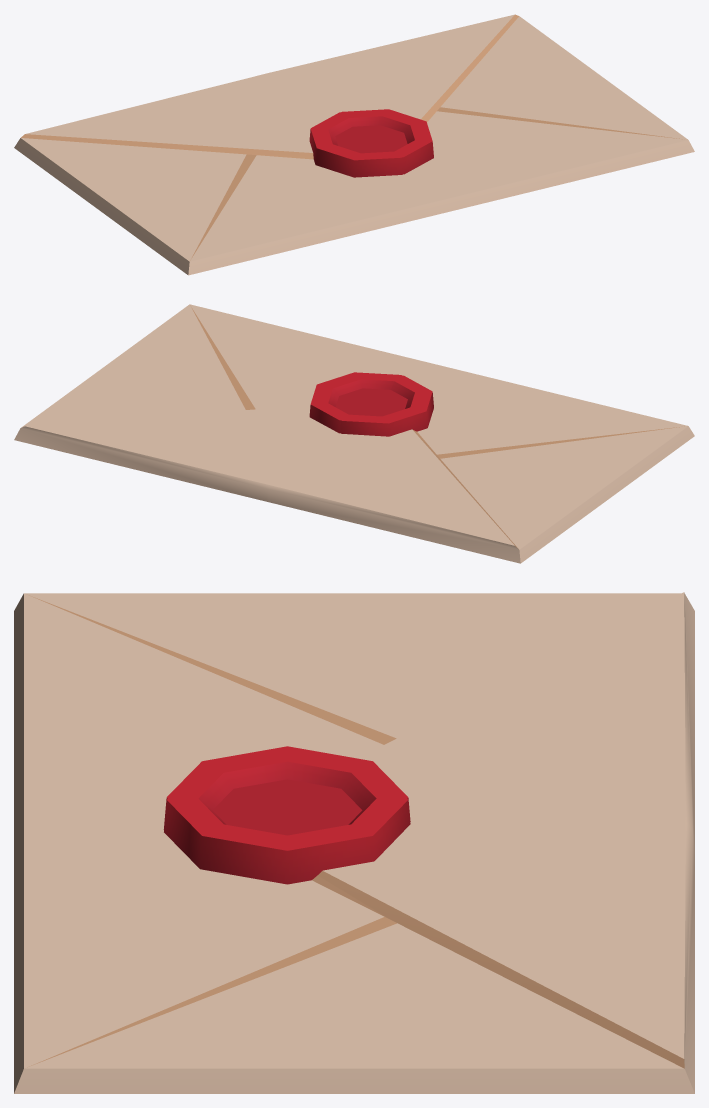
File: EnvelopeWaxSealed.fbx
The picture shows the model from 3 angles, top to bottom: view 1: azimuth 30°, elevation 25°; view 2: azimuth 150°, elevation 25°; view 3: azimuth 270°, elevation 25°; orthographic projection. The views are drawn at different scales.
Parts seen in each view (by area): view 1: EnvelopeWaxSealed; view 2: EnvelopeWaxSealed; view 3: EnvelopeWaxSealed.
Boxes of the visible parts, x1,y1,x2,y2 form: EnvelopeWaxSealed: [14, 14, 694, 275]; EnvelopeWaxSealed: [14, 304, 694, 563]; EnvelopeWaxSealed: [14, 592, 694, 1093].
Size of the model in its own units: 24.63 by 1.28 by 14.68.
